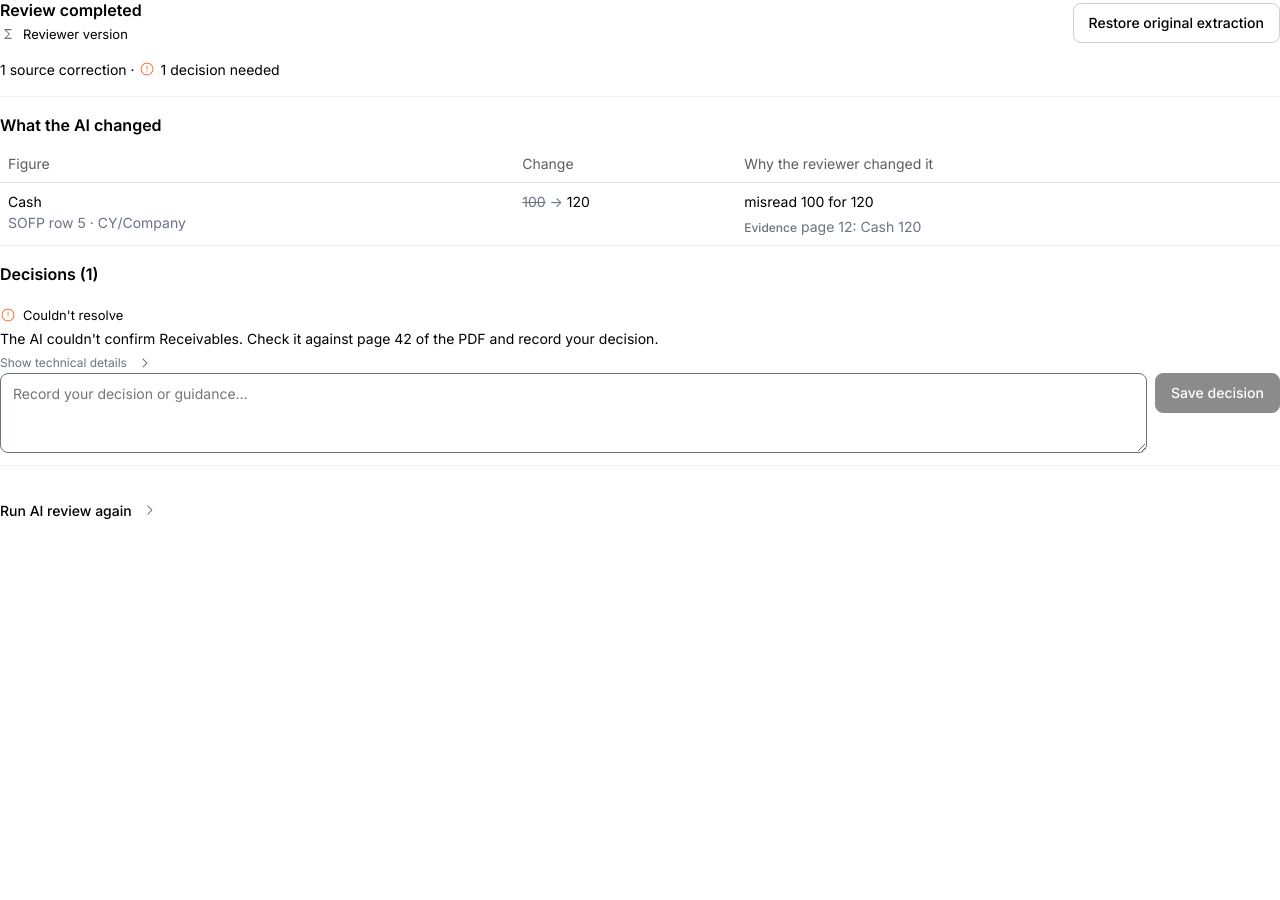
Test: ReviewTab › warns when a revert reports a cascade failure (cascade_ok:false)
Expected: the element with test id "review-tab" is shown, left=0, top=0, right=1279, bottom=530
What coordinates should you click on to do the following:
click the button "Restore original extraction"
I would click on:
 (1176, 23)
Its box is left=1072, top=3, right=1279, bottom=43.
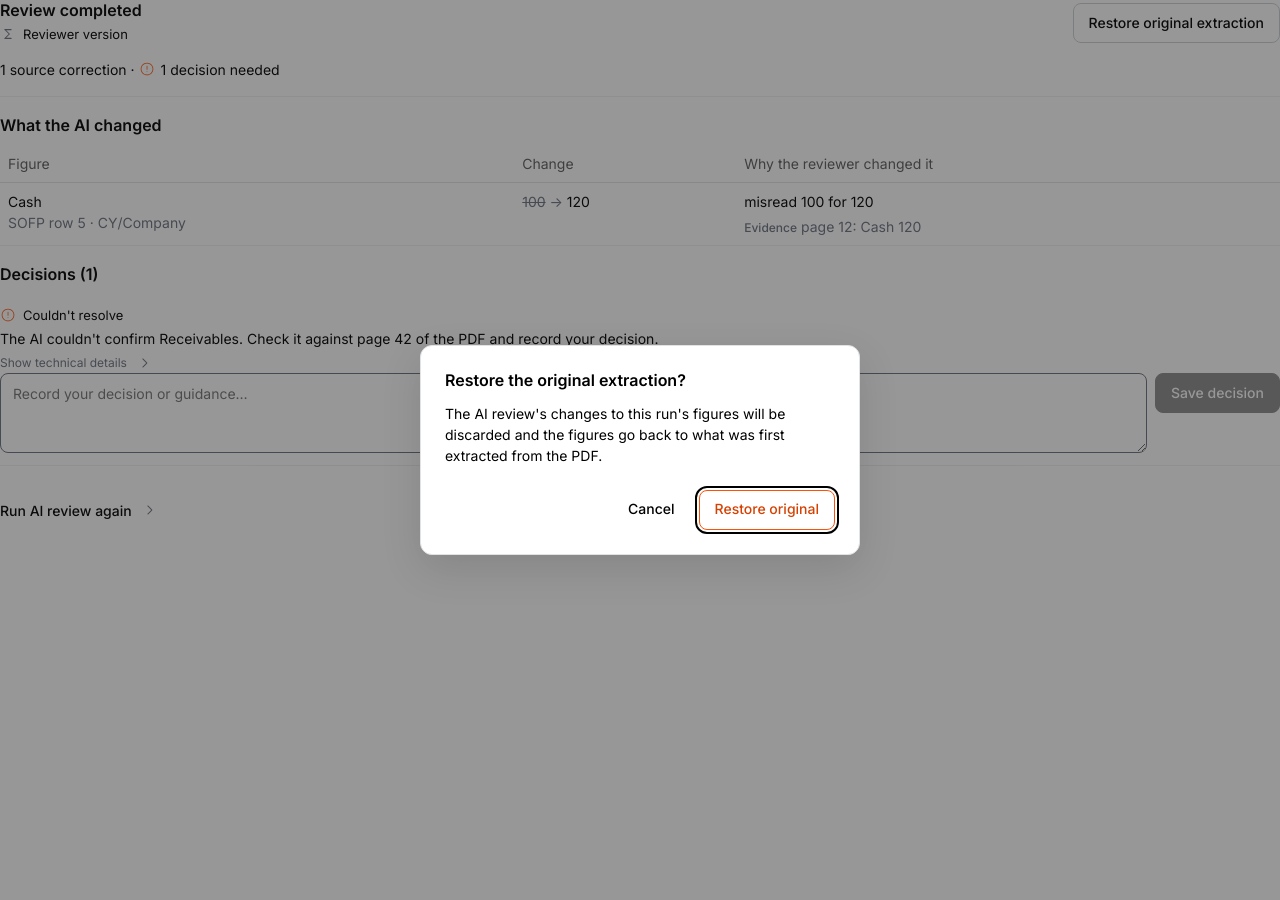
What coordinates should you click on to do the following:
click the button "Restore original"
I would click on:
 (767, 510)
Its box is left=698, top=490, right=835, bottom=530.
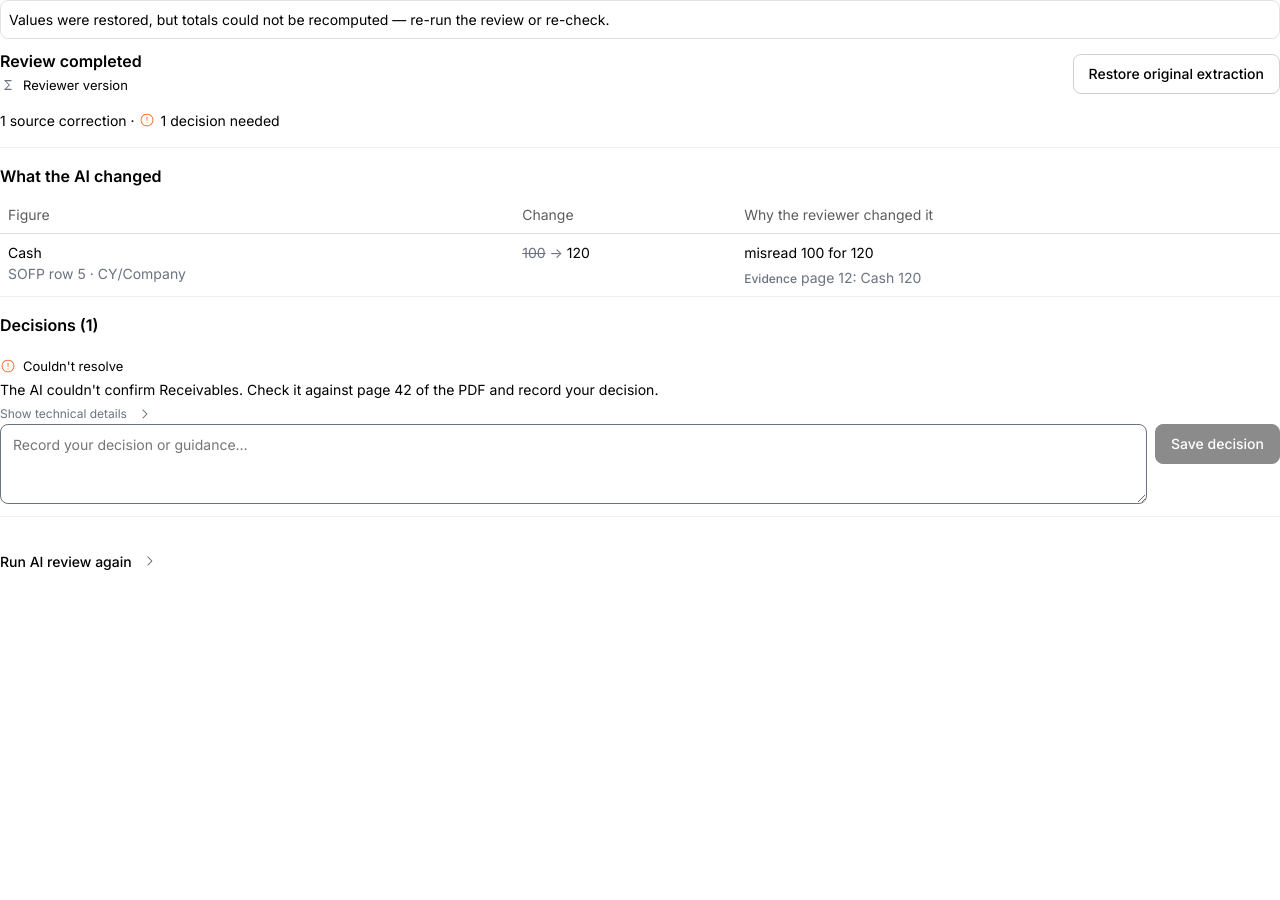
Expected: the message with test id "review-warning" shows "could not be recomputed", left=9, top=11, right=610, bottom=28
